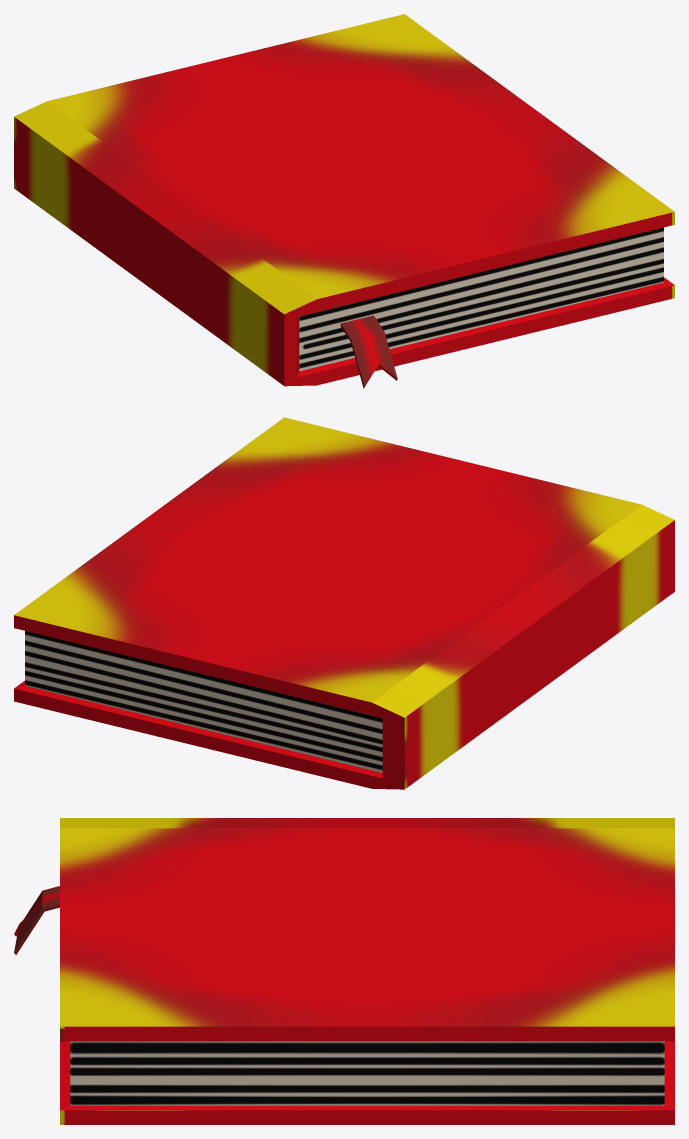
The model's file is Book 2.glb.
The picture shows the model from 3 angles, top to bottom: view 1: azimuth 30°, elevation 25°; view 2: azimuth 150°, elevation 25°; view 3: azimuth 270°, elevation 25°; orthographic projection. The views are drawn at different scales.
Parts seen in each view (by area): view 1: Cube.002, Plane.002; view 2: Cube.002; view 3: Cube.002, Plane.002.
Boxes of the visible parts, x1,y1,x2,y2 form: Cube.002: [14, 14, 674, 386]; Plane.002: [340, 315, 397, 388]; Cube.002: [14, 417, 674, 789]; Cube.002: [60, 818, 674, 1124]; Plane.002: [14, 886, 59, 954].
Size of the model in its own units: 0.2261 by 0.0477 by 0.2911.
Materials: 3 (3 with a texture image).
